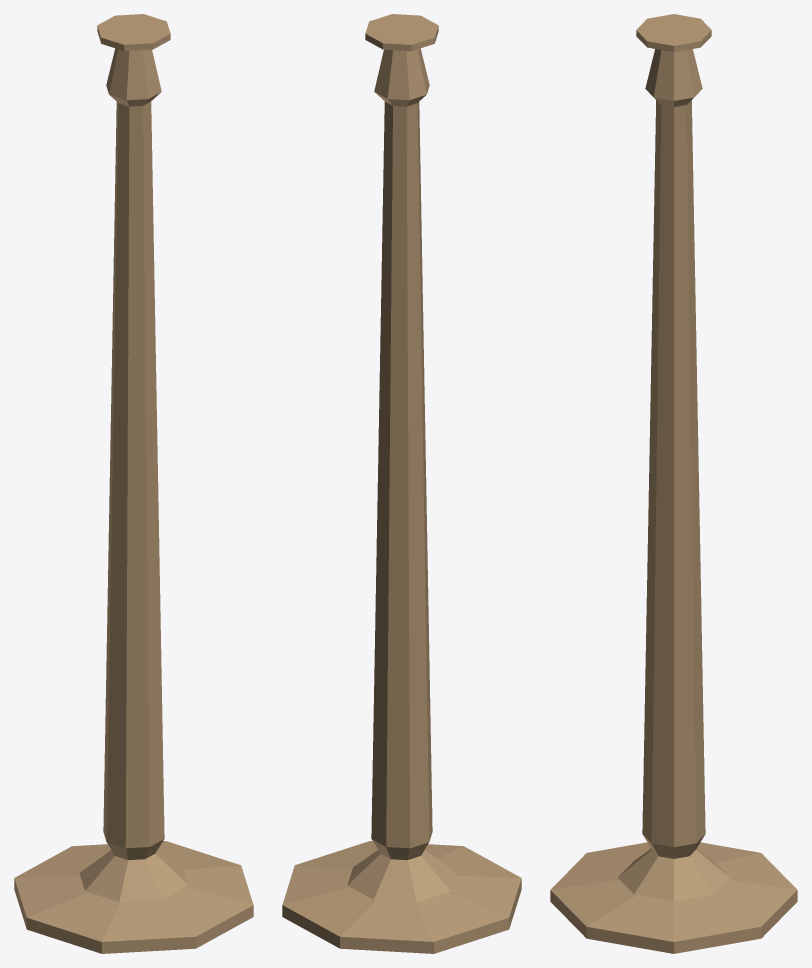
Rendered from Ständer.fbx.
3 views of the same model, side by side, from view 1: azimuth 30°, elevation 25°; view 2: azimuth 150°, elevation 25°; view 3: azimuth 270°, elevation 25° (orthographic).
Parts seen in each view (by area): view 1: Ständer; view 2: Ständer; view 3: Ständer.
Part boxes in pixels (x1,y1,x2,y2): Ständer: (14, 14, 253, 953); Ständer: (282, 14, 521, 953); Ständer: (550, 14, 797, 953).
Bounding box in the file's own units: 54.32 × 211 × 54.32.
